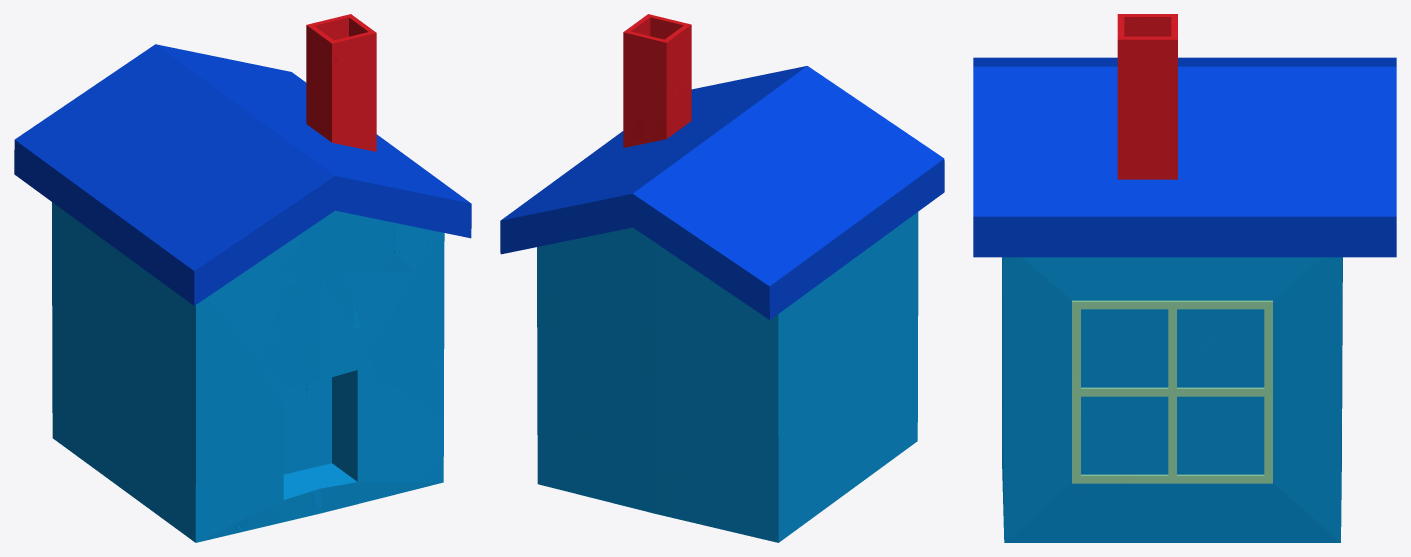
The model's file is HakaiHome2.fbx.
3 views of the same model, side by side, from view 1: azimuth 30°, elevation 25°; view 2: azimuth 150°, elevation 25°; view 3: azimuth 270°, elevation 25° (orthographic). The views are drawn at different scales.
Visible parts, largest first — view 1: Cube, Cube.001, Cube_cell.008, Cube.001_cell.010, Cube_cell.017, Cube.001_cell.003, Cube.001_cell.005, Cube_cell.015, Cube.004, Cube_cell.032, Cube_cell.016_cell.020, Cube_cell.016_cell.004 (+45 smaller); view 2: Cube, Cube.001, Cube.001_cell.010, Cube_cell.016, Cube_cell.005, Cube_cell.029, Cube_cell.012, Cube.004, Cube.001_cell.009, Cube.001_cell.001, Cube_cell.009_cell.005, Cube_cell.003 (+26 smaller); view 3: Cube, Cube.001, Cube.001_cell.003, Cube.001_cell.010, Cube.001_cell.007, Cube.004, Cube.001_cell.010_cell.004, Cube.003, Cube_cell.047, Cube.001_cell.010_cell.010, Cube_cell.035, Cube.001_cell.003_cell.007 (+48 smaller).
Part boxes in pixels (x1,y1,x2,y2): Cube: [52, 202, 444, 542]; Cube.001: [14, 58, 384, 305]; Cube_cell.008: [113, 253, 283, 407]; Cube.001_cell.010: [110, 51, 383, 149]; Cube_cell.017: [347, 270, 444, 386]; Cube.001_cell.003: [332, 140, 471, 238]; Cube.001_cell.005: [194, 149, 372, 305]; Cube_cell.015: [259, 275, 378, 415]; Cube.004: [306, 15, 376, 151]; Cube_cell.032: [106, 374, 151, 510]; Cube_cell.016_cell.020: [76, 388, 116, 460]; Cube_cell.016_cell.004: [62, 331, 101, 392]; Cube: [537, 212, 918, 542]; Cube.001: [500, 66, 944, 319]; Cube.001_cell.010: [579, 106, 751, 221]; Cube_cell.016: [734, 333, 847, 525]; Cube_cell.005: [854, 310, 918, 471]; Cube_cell.029: [597, 265, 722, 475]; Cube_cell.012: [537, 438, 670, 517]; Cube.004: [623, 14, 691, 147]; Cube.001_cell.009: [781, 184, 922, 310]; Cube.001_cell.001: [651, 206, 781, 319]; Cube_cell.009_cell.005: [564, 294, 632, 363]; Cube_cell.003: [661, 456, 795, 542]; Cube: [1002, 257, 1342, 542]; Cube.001: [973, 57, 1396, 257]; Cube.001_cell.003: [973, 108, 1185, 257]; Cube.001_cell.010: [1085, 61, 1393, 227]; Cube.001_cell.007: [1253, 103, 1396, 239]; Cube.004: [1117, 14, 1177, 179]; Cube.001_cell.010_cell.004: [1221, 66, 1340, 146]; Cube.003: [1072, 300, 1272, 483]; Cube_cell.047: [1172, 433, 1341, 542]; Cube.001_cell.010_cell.010: [1203, 126, 1324, 208]; Cube_cell.035: [1081, 396, 1168, 474]; Cube.001_cell.003_cell.007: [1036, 170, 1157, 256].
Size of the model in its own units: 229 by 331 by 257.
